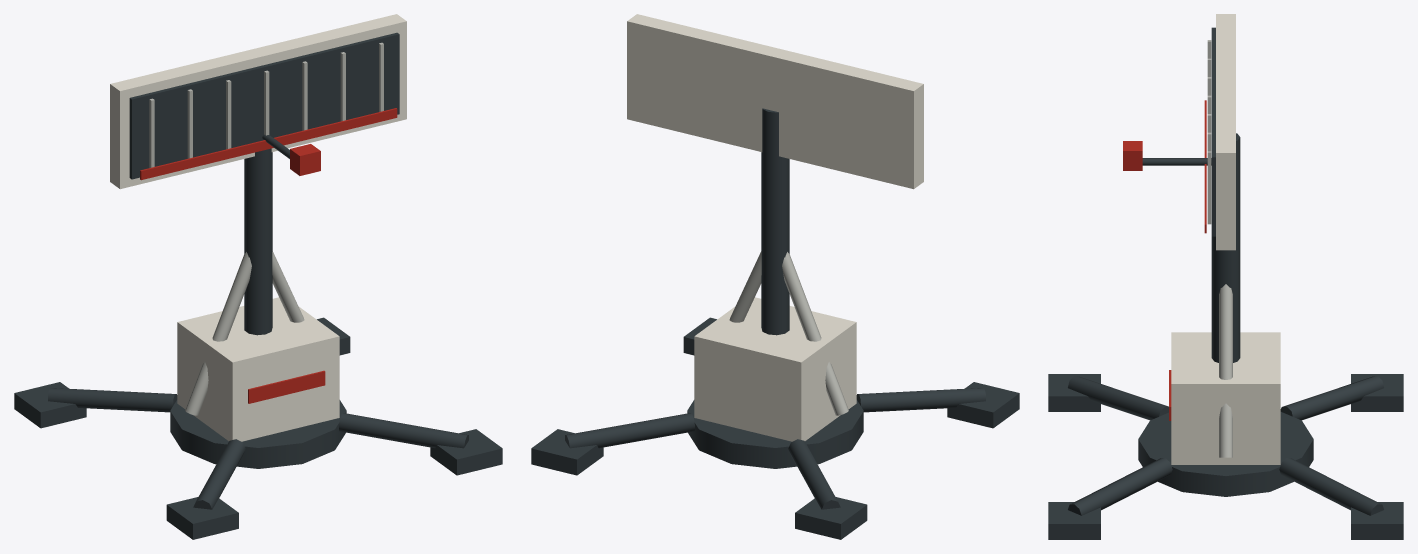
3 renders of one model, left to right at view 1: azimuth 30°, elevation 25°; view 2: azimuth 150°, elevation 25°; view 3: azimuth 270°, elevation 25°, orthographic.
Visible parts, largest first — view 1: radar-station-fleet-machine, radar-fleet-machine, radar-station-fleet-armor, radar-fleet-armor, radar-fleet-red, radar-station-fleet-edge, radar-fleet-edge, radar-station-fleet-red; view 2: radar-fleet-armor, radar-station-fleet-machine, radar-station-fleet-armor, radar-station-fleet-edge; view 3: radar-station-fleet-machine, radar-station-fleet-armor, radar-fleet-armor, radar-station-fleet-edge, radar-fleet-machine, radar-fleet-red, radar-fleet-edge.
Boxes of the visible parts, x1,y1,x2,y2 form: radar-station-fleet-machine: (14, 148, 502, 539); radar-fleet-machine: (129, 32, 399, 179); radar-station-fleet-armor: (177, 297, 339, 441); radar-fleet-armor: (110, 14, 406, 189); radar-fleet-red: (140, 108, 397, 180); radar-station-fleet-edge: (185, 251, 304, 415); radar-fleet-edge: (149, 42, 383, 167); radar-station-fleet-red: (248, 370, 325, 403); radar-fleet-armor: (627, 14, 923, 189); radar-station-fleet-machine: (531, 108, 1019, 539); radar-station-fleet-armor: (694, 297, 856, 441); radar-station-fleet-edge: (729, 251, 848, 415); radar-station-fleet-machine: (1048, 133, 1403, 539); radar-station-fleet-armor: (1171, 332, 1280, 464); radar-fleet-armor: (1216, 14, 1235, 250); radar-station-fleet-edge: (1219, 284, 1232, 457); radar-fleet-machine: (1142, 27, 1215, 236); radar-fleet-red: (1123, 100, 1206, 233); radar-fleet-edge: (1207, 40, 1211, 224).
Size of the model in its own units: 20 by 23.7 by 20.
